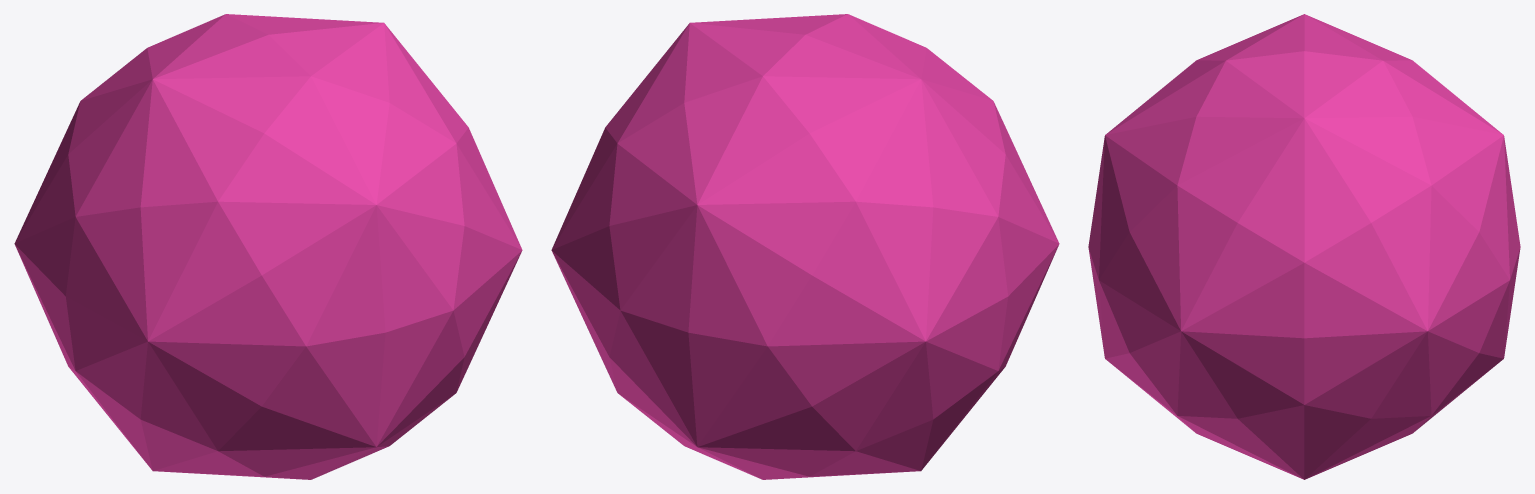
File: disdyakistriacontahedron.gltf
The picture shows the model from 3 angles, left to right: view 1: azimuth 30°, elevation 25°; view 2: azimuth 150°, elevation 25°; view 3: azimuth 270°, elevation 25°; orthographic projection. The views are drawn at different scales.
Parts seen in each view (by area): view 1: Solid.002; view 2: Solid.002; view 3: Solid.002.
Part boxes in pixels (x1,y1,x2,y2): Solid.002: [14, 14, 522, 479]; Solid.002: [551, 14, 1059, 479]; Solid.002: [1088, 14, 1520, 479].
Size of the model in its own units: 1.56 by 1.56 by 1.56.
